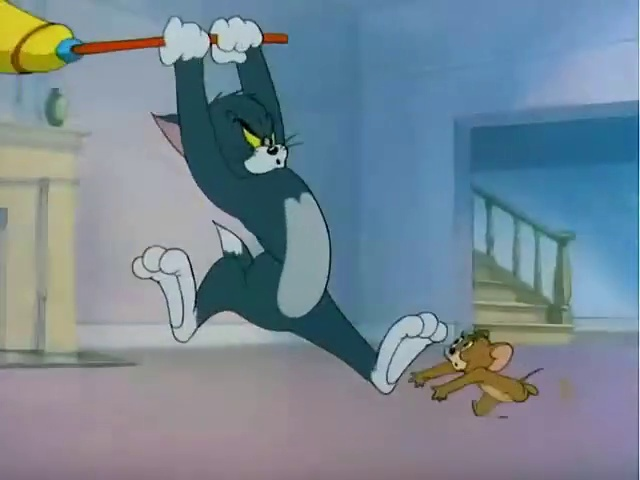jerry: (401, 324, 584, 437)
tom: (125, 7, 449, 402)
